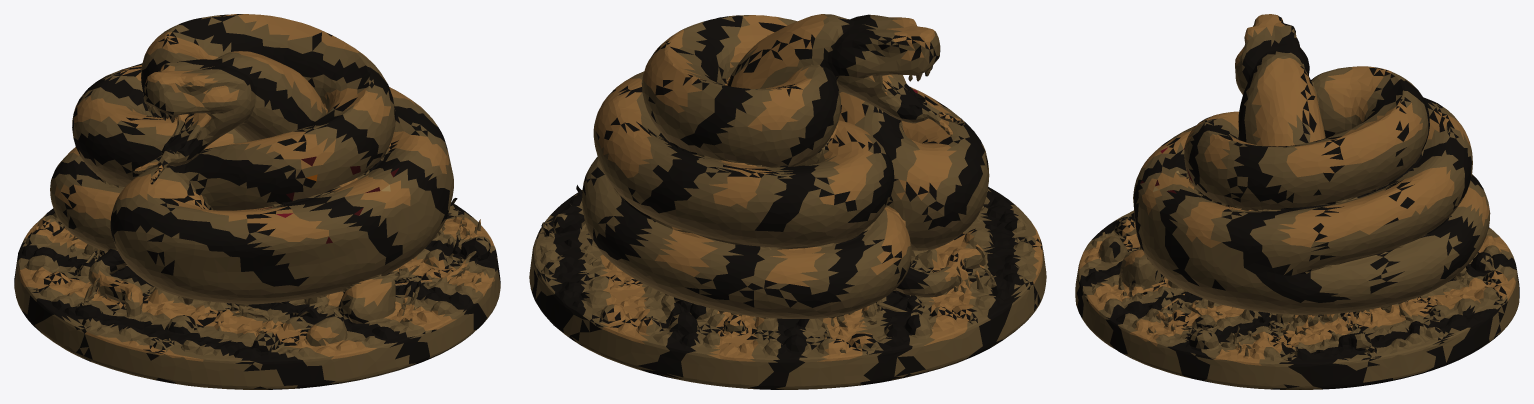
Rendered from cobra_constritora_corrigida.glb.
3 views of the same model, side by side, from view 1: azimuth 30°, elevation 25°; view 2: azimuth 150°, elevation 25°; view 3: azimuth 270°, elevation 25° (orthographic). The views are drawn at different scales.
Parts seen in each view (by area): view 1: tmpoo1a48pl.ply; view 2: tmpoo1a48pl.ply; view 3: tmpoo1a48pl.ply.
Boxes of the visible parts, x1=… form: tmpoo1a48pl.ply: x1=14, y1=14, x2=500, y2=389; tmpoo1a48pl.ply: x1=529, y1=14, x2=1046, y2=389; tmpoo1a48pl.ply: x1=1075, y1=14, x2=1519, y2=389.
Bounding box in the file's own units: 1.96 × 1.14 × 1.96.
